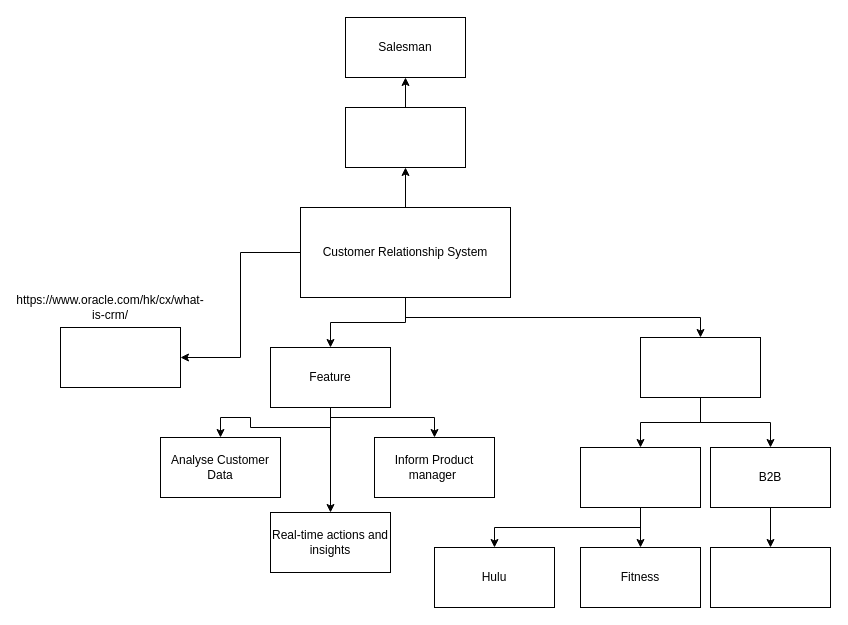
This 848x625 diagram has some shape labels left out. Each missing label, with the box of its shape:
B2C: (580, 446, 700, 508)
Industry: (640, 336, 760, 398)
Software Example: Oracle CRM,: (60, 326, 180, 388)
Supermarket: (710, 546, 830, 608)
Who use it?: (344, 106, 466, 168)
